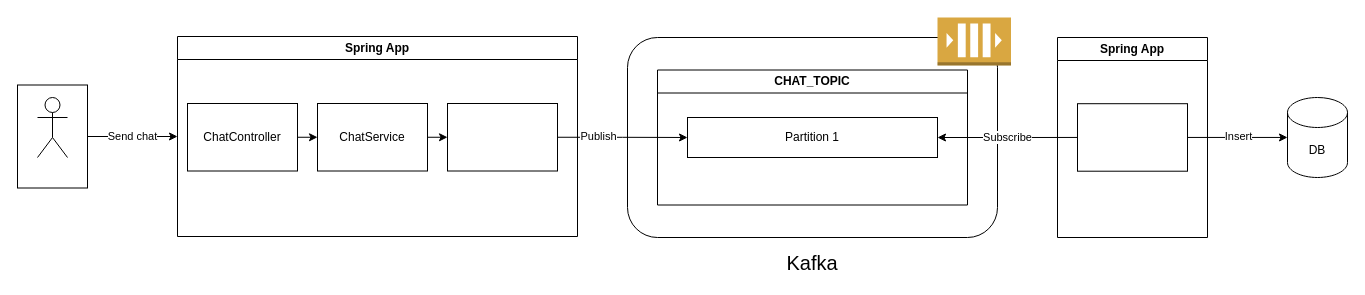
The diagram is 1365 pixels wide and 295 high, and some of its shapes have lost their labels. The centre of each missing label's shape, as x and y in pixels:
"ChatListener" belongs at (1132,137).
"Client" belongs at (52,127).
"Producer" belongs at (502,136).
